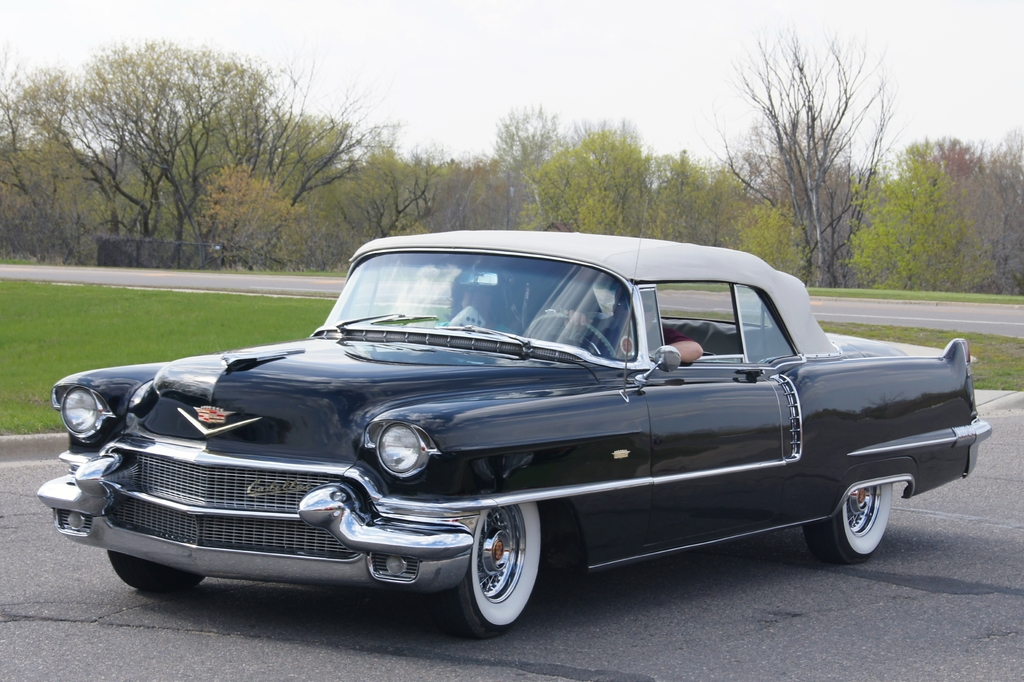Car: (37, 188, 997, 642)
